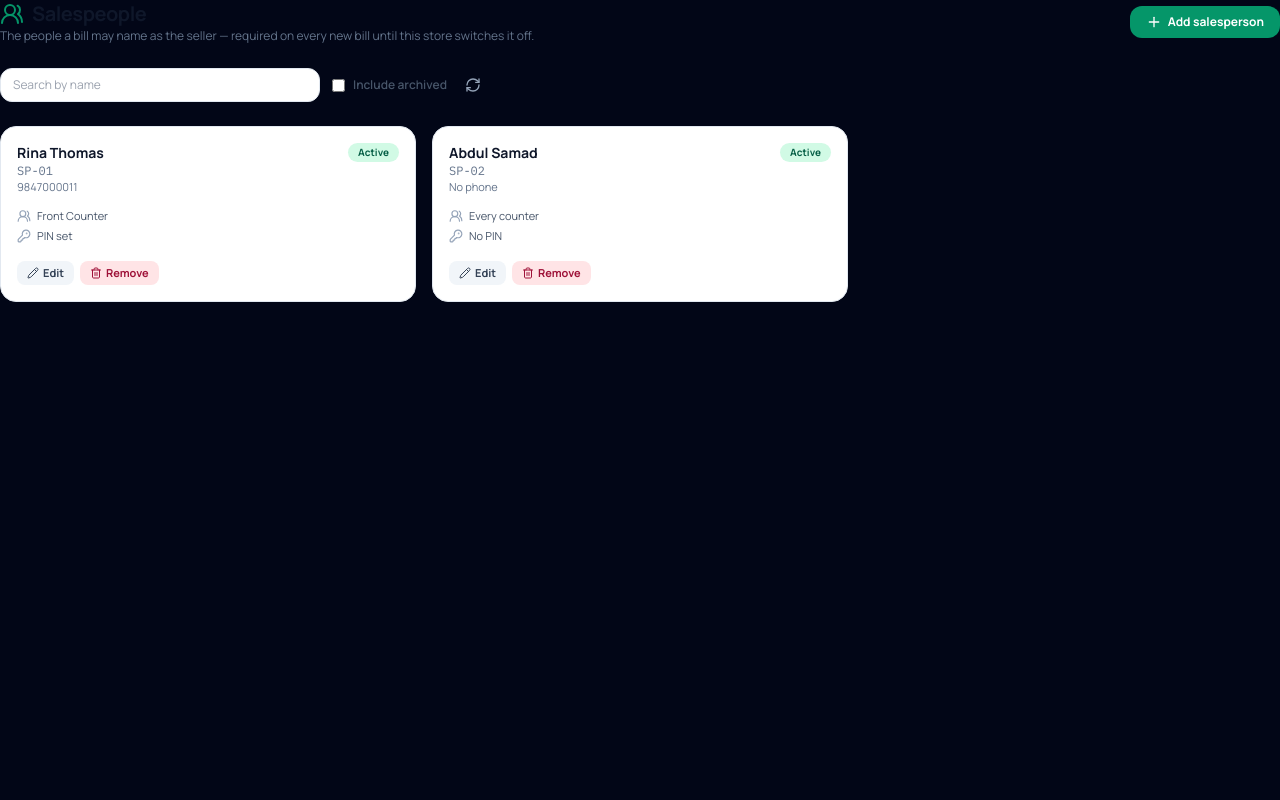
Test case: salespeople master › names the store a new person will belong to and moves the panel there
Expected: the text "Rina Thomas" is shown, [17,143,104,163]
Step 1. Click the button "Add salesperson" → click(1205, 22), box [1130,6,1279,38]
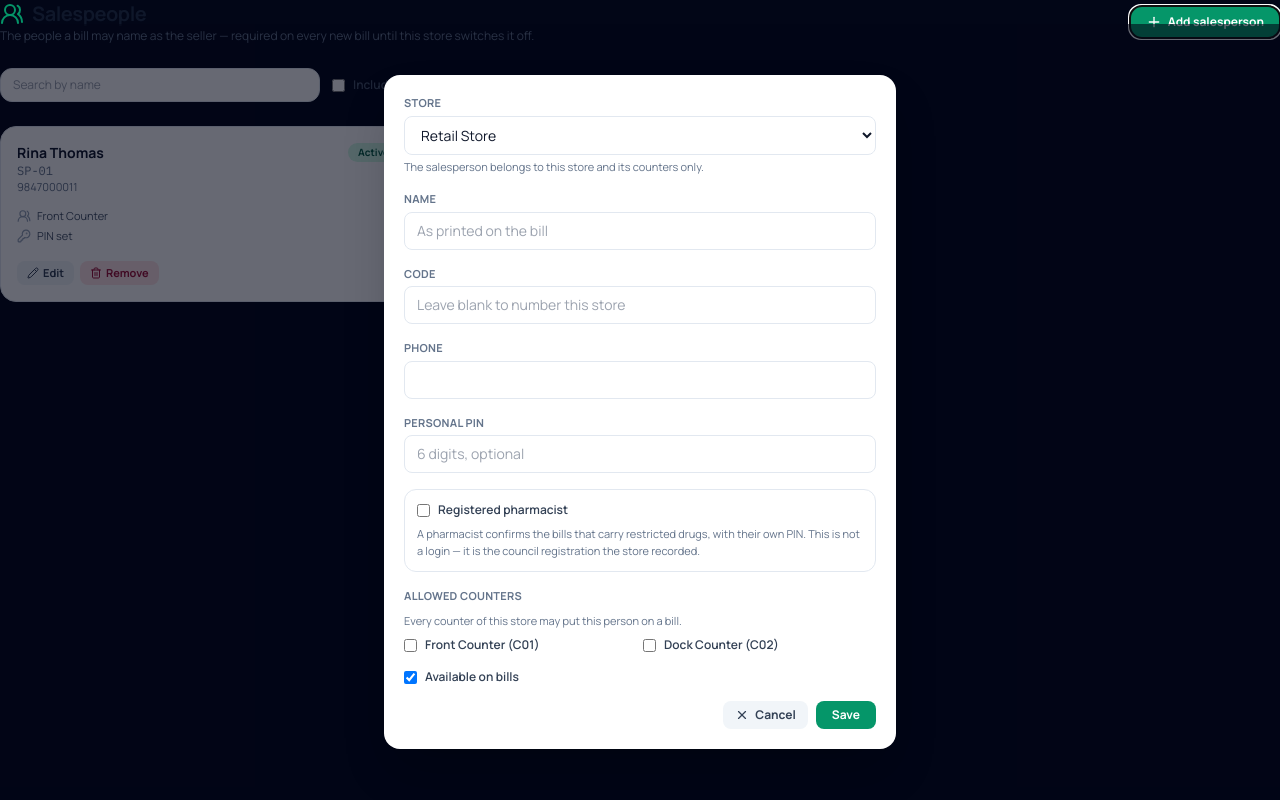
Result: the dropdown labelled "Store" shows "Retail Store"
Result: the text "The salesperson belongs to this store and its counters only." is shown at [404,158,704,174]
Step 2. Select "LamStone Medicos (Kochi)" in the dropdown labelled "Store" → (640, 135), box [404,116,876,154]
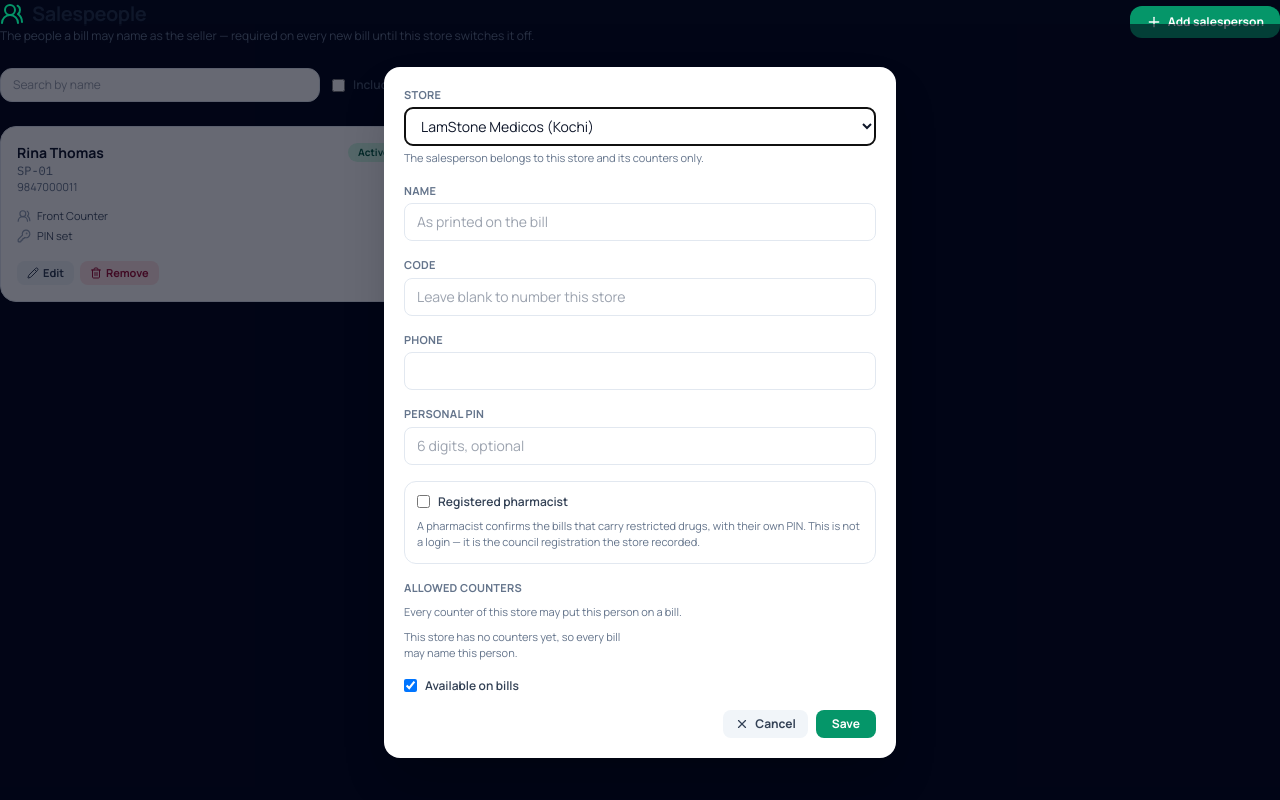
Step 3. Type "Meera Nair" into the field labelled "Name" → (640, 222), box [404,203,876,241]
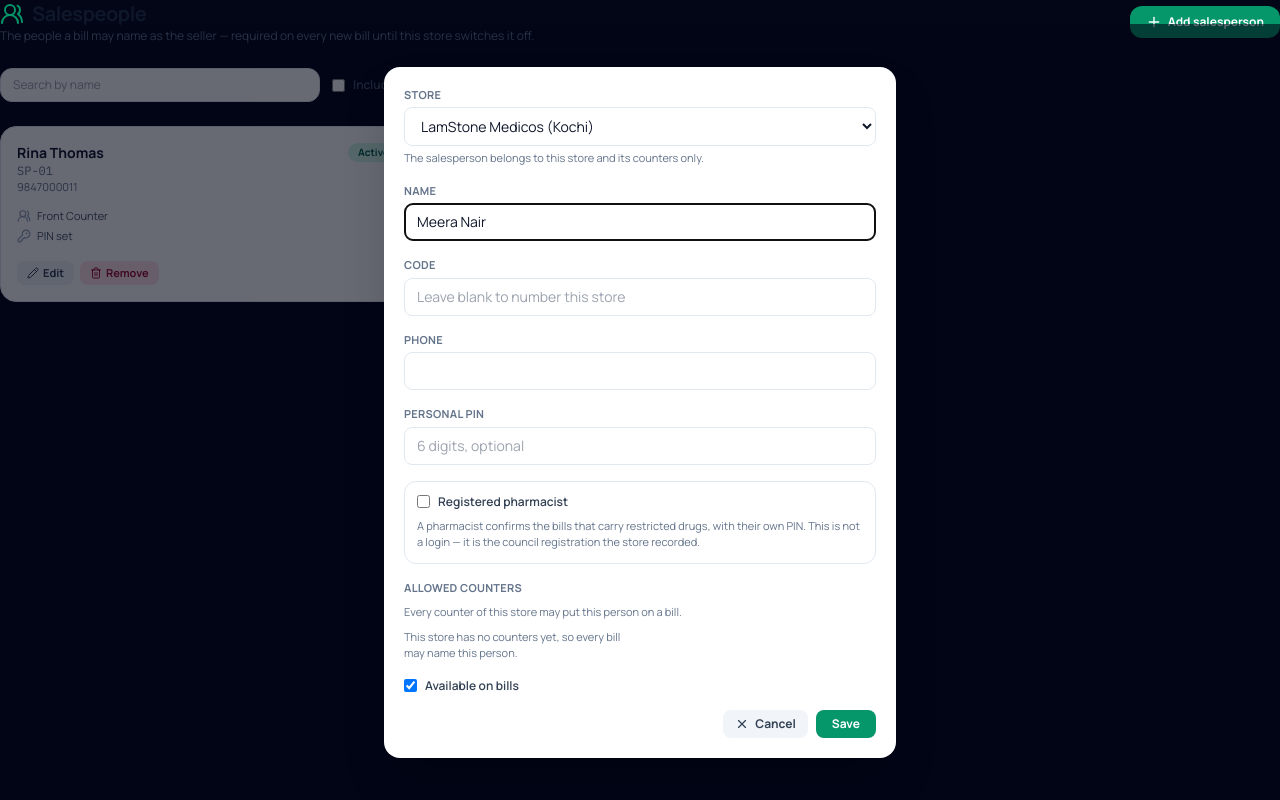
Step 4. Click the button "Save" → click(846, 724), box [816,710,876,738]
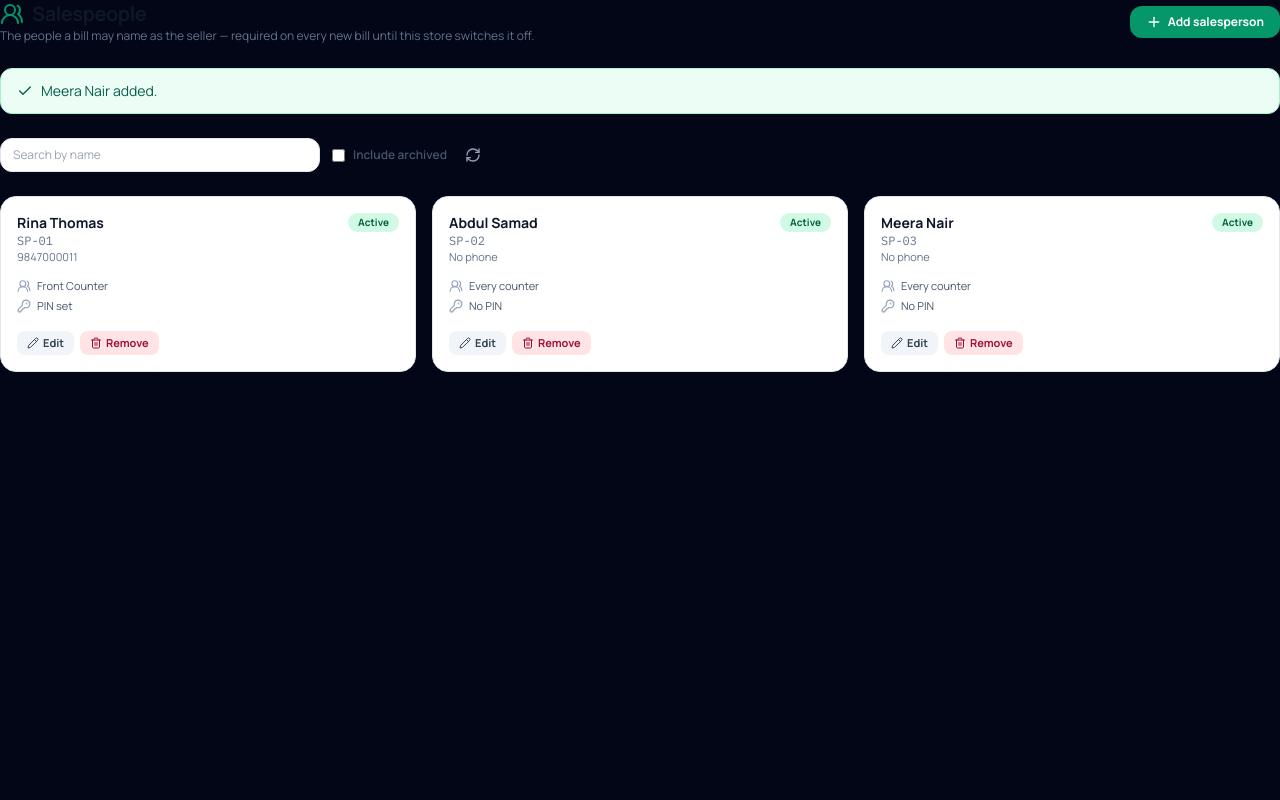
Result: the text "Meera Nair" is shown at [881,213,954,233]
